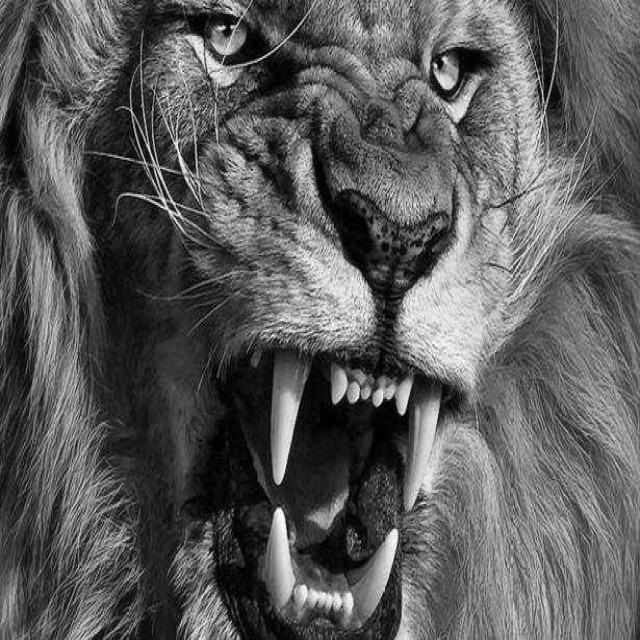Lion: (81, 28, 595, 604)
